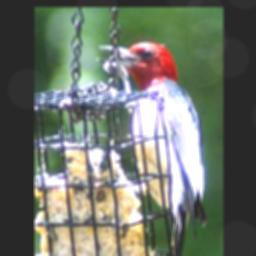Woodpecker: (93, 39, 207, 256)
